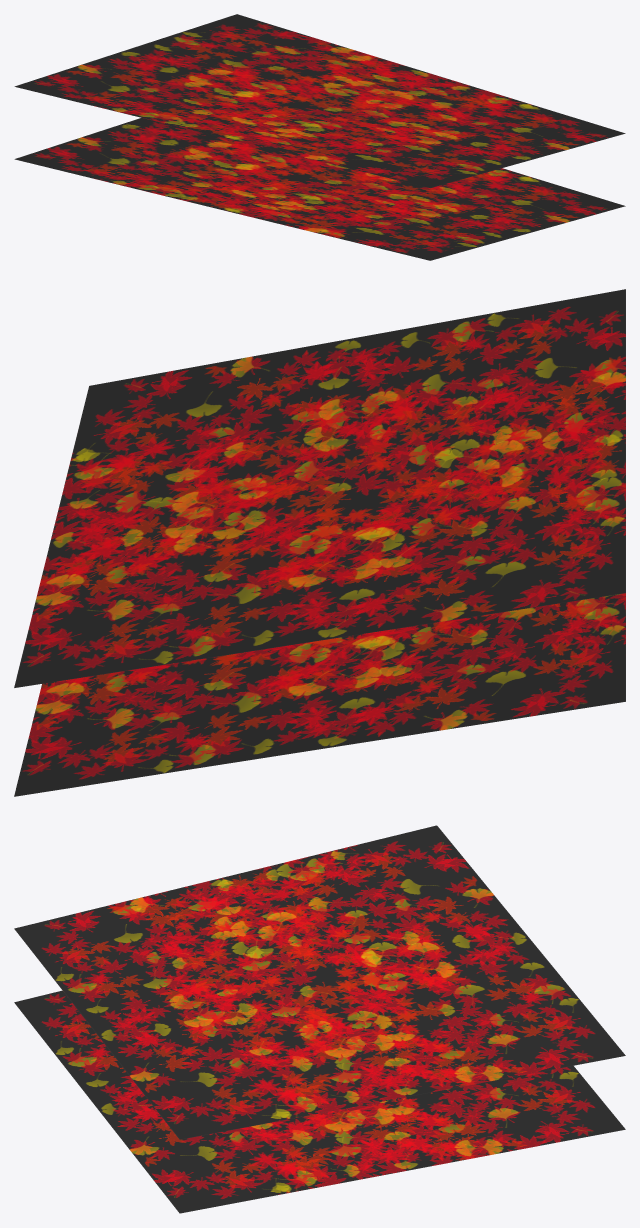
File: CourseAki_CurveFloor_3_11.fbx
3 renders of one model, top to bottom at view 1: azimuth 30°, elevation 25°; view 2: azimuth 150°, elevation 25°; view 3: azimuth 270°, elevation 25°, orthographic. The views are drawn at different scales.
Parts seen in each view (by area): view 1: polySurface460; view 2: polySurface460; view 3: polySurface460.
Boxes of the visible parts, bbox=[...] form: polySurface460: bbox=[14, 14, 625, 260]; polySurface460: bbox=[14, 289, 625, 796]; polySurface460: bbox=[14, 825, 625, 1213].
Bounding box in the file's own units: 7 × 2 × 7.52.
Materials: 1 (1 with a texture image).
